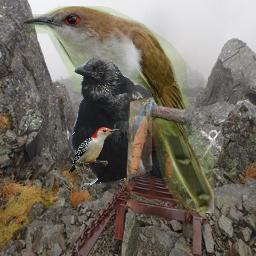Crow: (68, 56, 152, 188)
Cuckoo: (20, 6, 214, 213)
Woodpecker: (68, 127, 121, 174)
